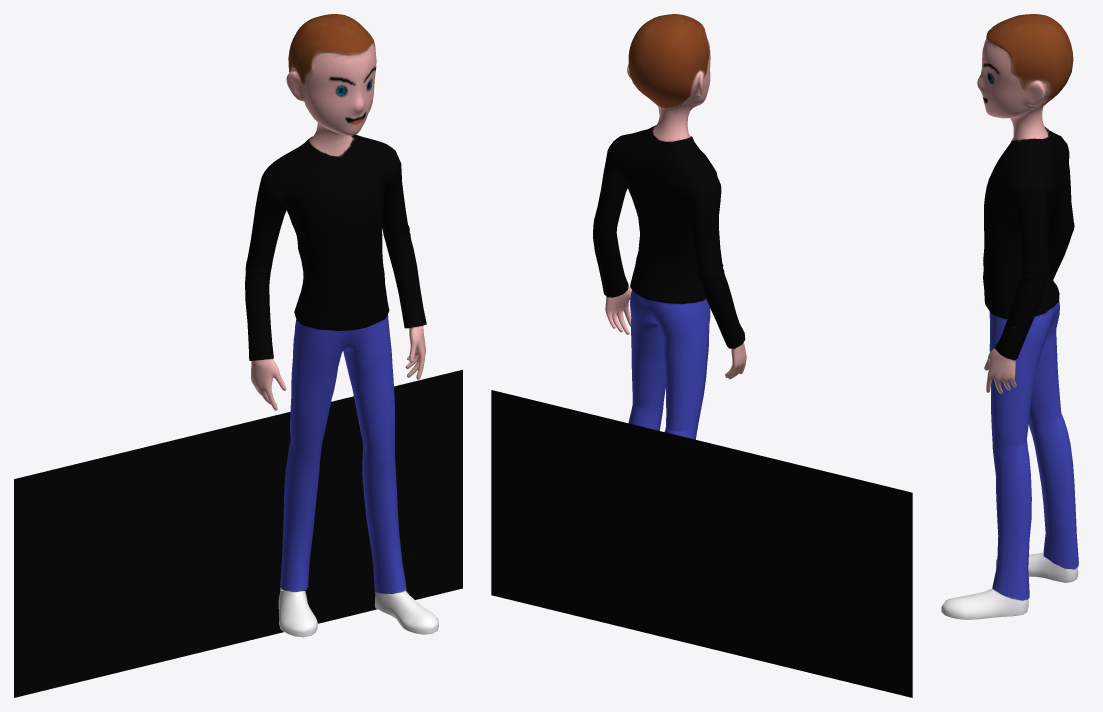
The model's file is chico3  fase3.fbx.
The picture shows the model from 3 angles, left to right: view 1: azimuth 30°, elevation 25°; view 2: azimuth 150°, elevation 25°; view 3: azimuth 270°, elevation 25°; orthographic projection. The views are drawn at different scales.
Parts seen in each view (by area): view 1: node_id9, node_id6; view 2: node_id9, node_id6; view 3: node_id6.
Boxes of the visible parts, x1,y1,x2,y2 form: node_id9: (14,369,462,697); node_id6: (245,14,438,637); node_id9: (491,390,912,697); node_id6: (593,14,746,439); node_id6: (941,14,1078,619).
Size of the model in its own units: 0.512 by 0.6875 by 0.1519.
2 materials, 2 textured.
